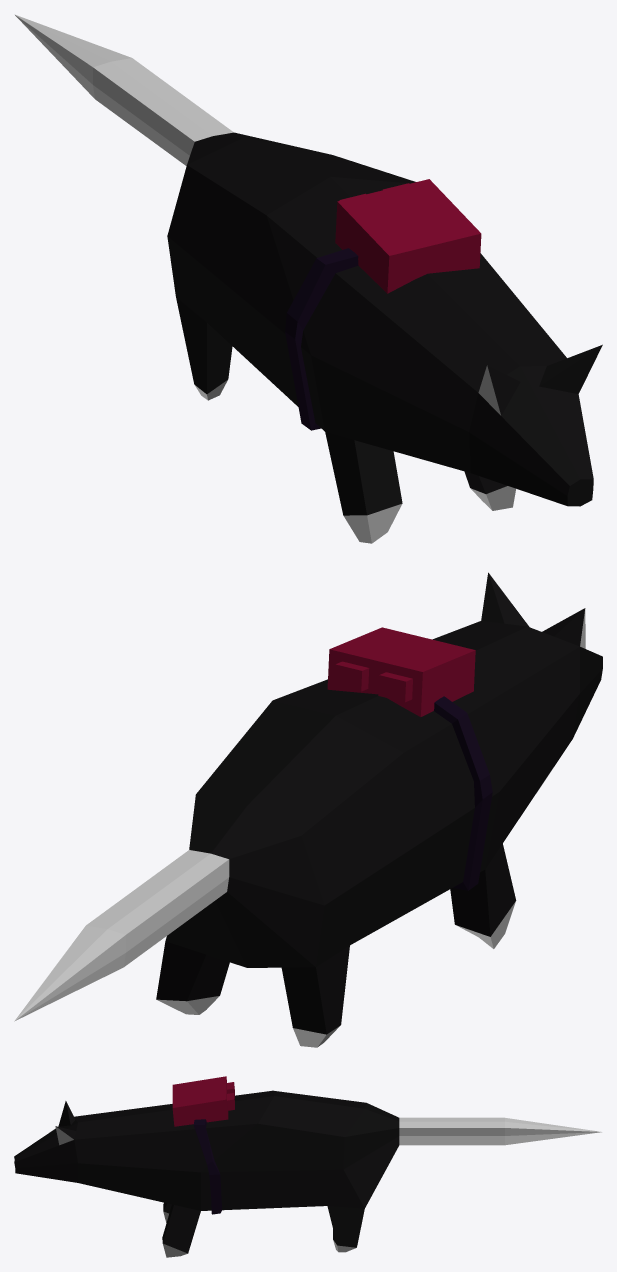
The model's file is jetrat.obj.
3 views of the same model, one above another, from view 1: azimuth 30°, elevation 25°; view 2: azimuth 150°, elevation 25°; view 3: azimuth 270°, elevation 25° (orthographic). The views are drawn at different scales.
Parts seen in each view (by area): view 1: body_Cube.004, jetpack_Cube.005; view 2: body_Cube.004, jetpack_Cube.005; view 3: body_Cube.004, jetpack_Cube.005.
Part boxes in pixels (x1=…): body_Cube.004: x1=14, y1=14, x2=602, y2=543; jetpack_Cube.005: x1=335, y1=179, x2=481, y2=293; body_Cube.004: x1=14, y1=572, x2=602, y2=1047; jetpack_Cube.005: x1=327, y1=627, x2=475, y2=716; body_Cube.004: x1=14, y1=1090, x2=601, y2=1257; jetpack_Cube.005: x1=172, y1=1076, x2=234, y2=1126.
Bounding box in the file's own units: 2.52 × 3.77 × 12.88.
